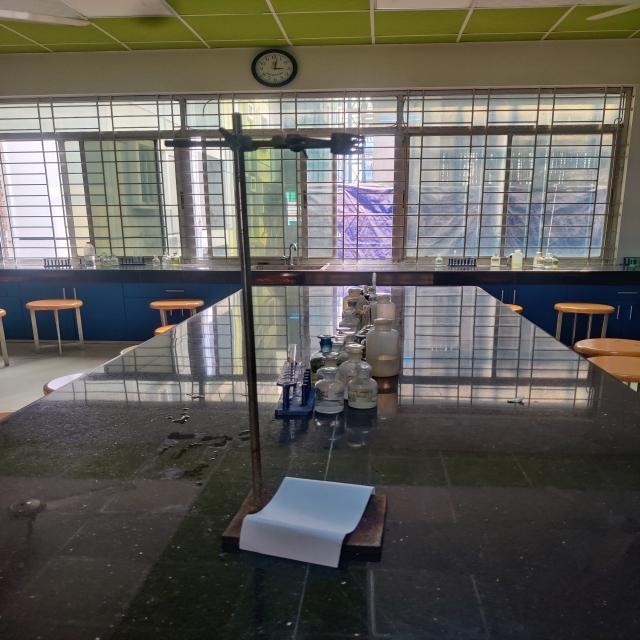Burette_Stands: (150, 99, 406, 592)
